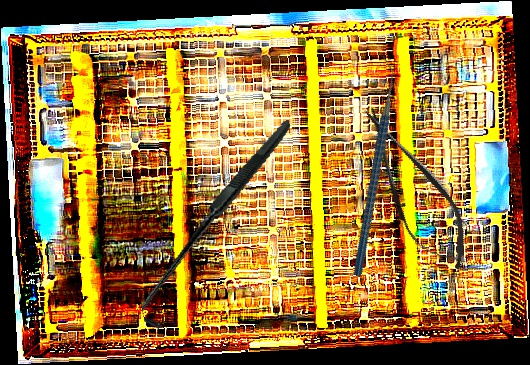Chopper: (284, 56, 459, 278)
Hook Surgical: (109, 119, 326, 332)
Micro Scissor: (342, 93, 486, 284)
